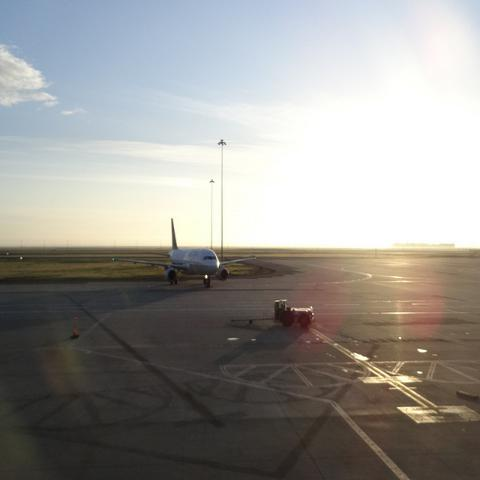truck: (232, 299, 315, 328)
